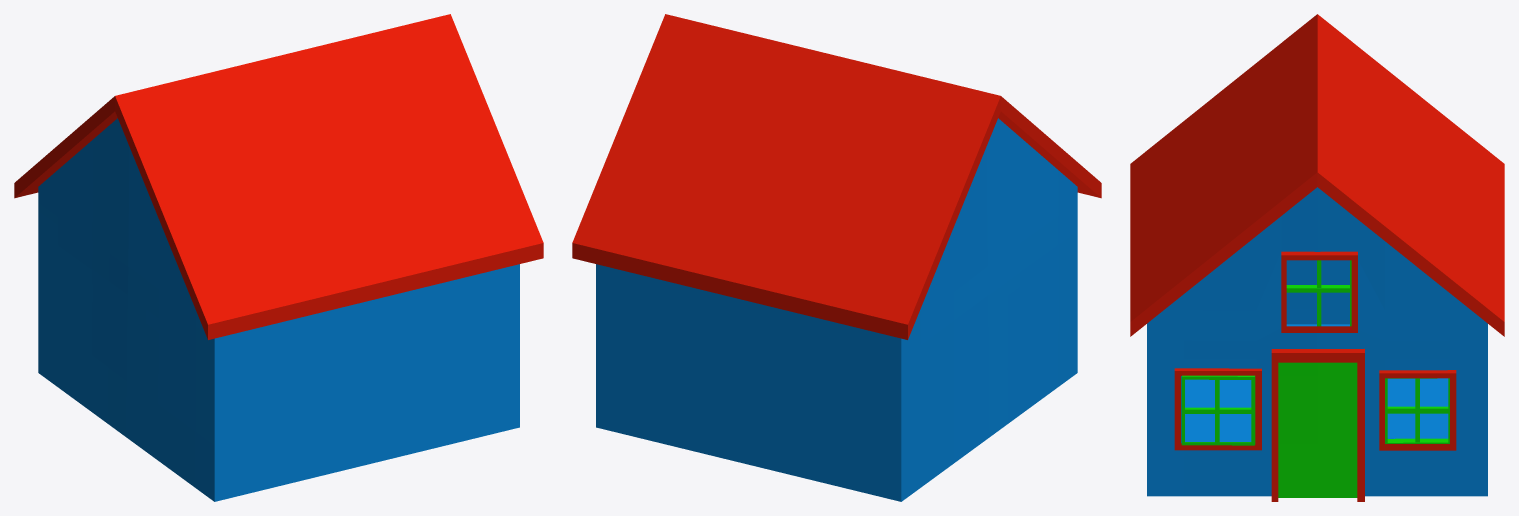
The model's file is house 4.fbx.
3 views of the same model, side by side, from view 1: azimuth 30°, elevation 25°; view 2: azimuth 150°, elevation 25°; view 3: azimuth 270°, elevation 25° (orthographic). The views are drawn at different scales.
Parts seen in each view (by area): view 1: Cube.001, Cube; view 2: Cube.001, Cube; view 3: Cube.001, Cube, Cube.002, Cube.014, Cube.011, Cube.012, Cube.013, Cube.004, Cube.003, Cube.009, Cube.006.
Boxes of the visible parts, box(x1,y1,x2,y2) form: Cube.001: box(14, 14, 543, 339); Cube: box(38, 118, 519, 501); Cube.001: box(572, 14, 1101, 339); Cube: box(596, 118, 1077, 501); Cube.001: box(1130, 14, 1504, 336); Cube: box(1147, 187, 1487, 496); Cube.002: box(1278, 362, 1357, 497); Cube.014: box(1271, 348, 1364, 501); Cube.011: box(1174, 368, 1261, 450); Cube.012: box(1281, 251, 1357, 332); Cube.013: box(1379, 370, 1456, 450); Cube.004: box(1181, 375, 1255, 445); Cube.003: box(1385, 378, 1449, 443); Cube.009: box(1286, 285, 1349, 292); Cube.006: box(1387, 406, 1448, 413).
Size of the model in its own units: 222 by 216 by 220.
